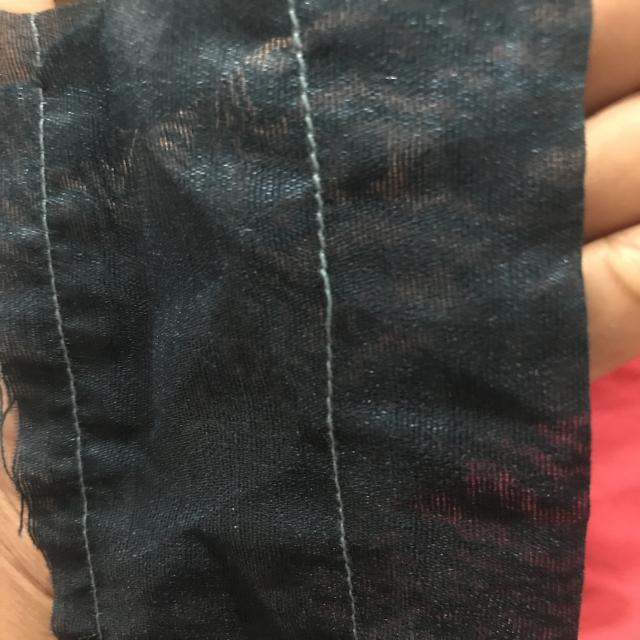good: (290, 81, 341, 227), (318, 407, 361, 553)
skip: (292, 258, 356, 343)
